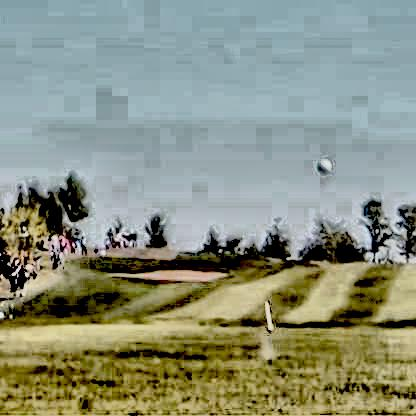golfball: (314, 155, 329, 172)
